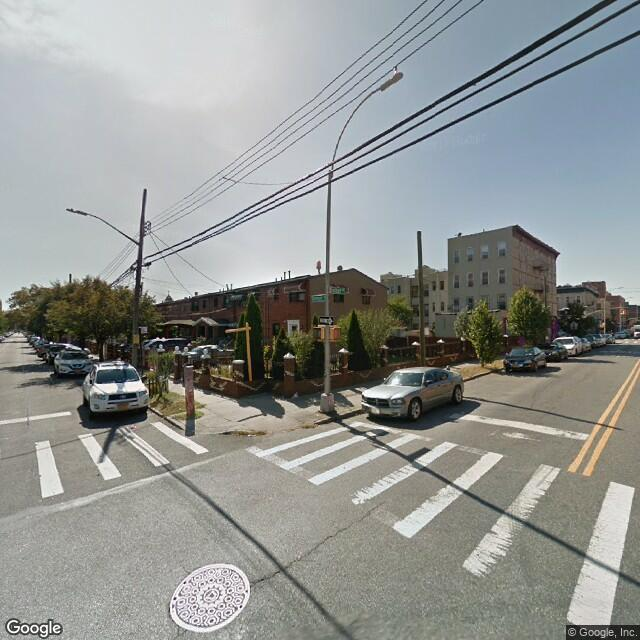litter: (289, 391, 300, 396), (244, 432, 251, 437), (314, 411, 319, 415), (178, 405, 184, 408)
